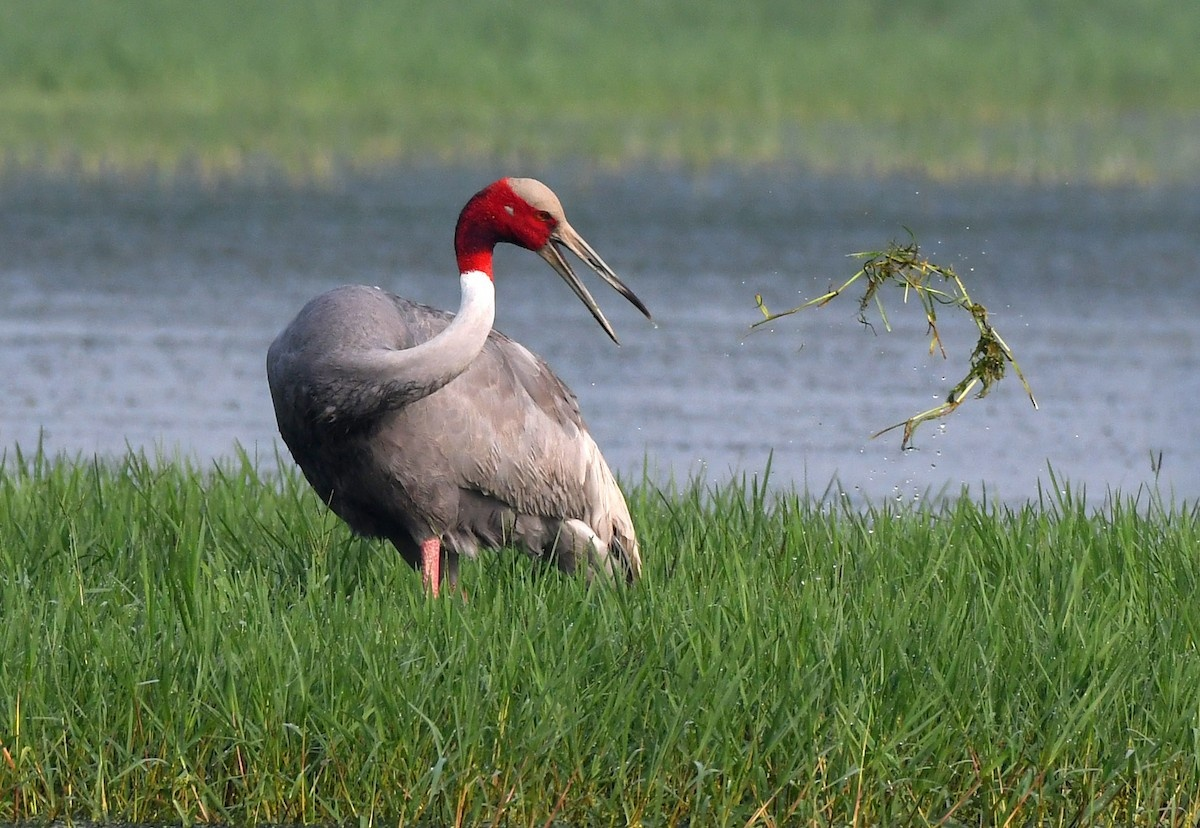crane: (267, 166, 661, 615)
